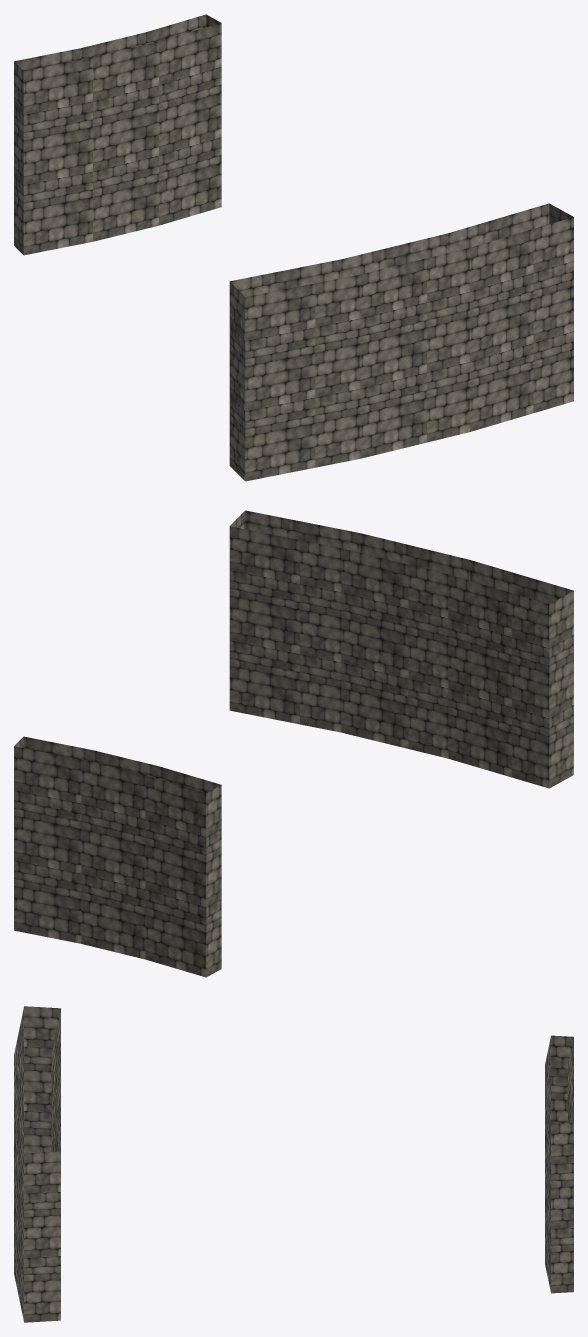
The model's file is Arena_Foundation_1.gltf.
The picture shows the model from 3 angles, top to bottom: view 1: azimuth 30°, elevation 25°; view 2: azimuth 150°, elevation 25°; view 3: azimuth 270°, elevation 25°; orthographic projection. The views are drawn at different scales.
Parts seen in each view (by area): view 1: Arena_Foundation_1; view 2: Arena_Foundation_1; view 3: Arena_Foundation_1.
Part boxes in pixels (x1,y1,x2,y2): Arena_Foundation_1: (14,14,573,481); Arena_Foundation_1: (14,510,573,977); Arena_Foundation_1: (14,1006,573,1322).
Bounding box in the file's own units: 9.8 × 5.25 × 15.75.
Materials: 1 (1 with a texture image).
